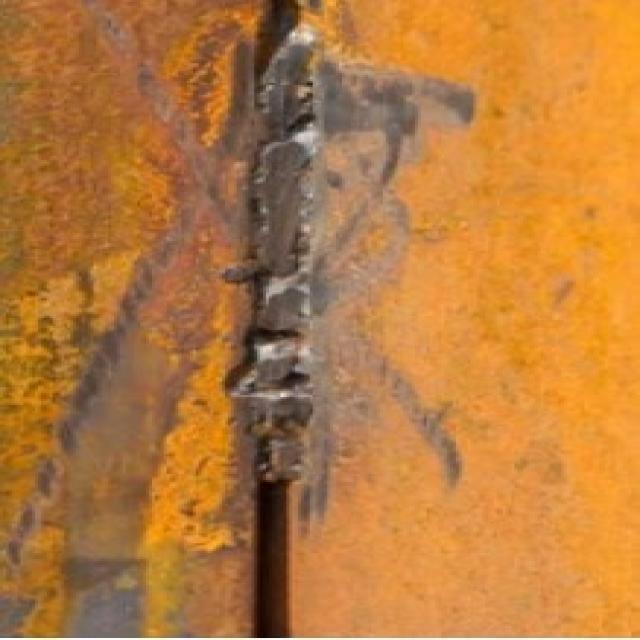Bad Welding: (222, 20, 356, 640)
